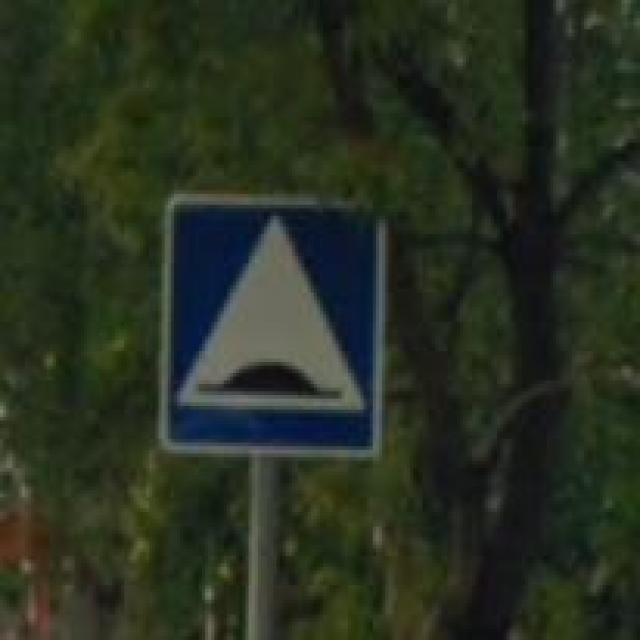traffic_sign: (156, 194, 386, 461)
